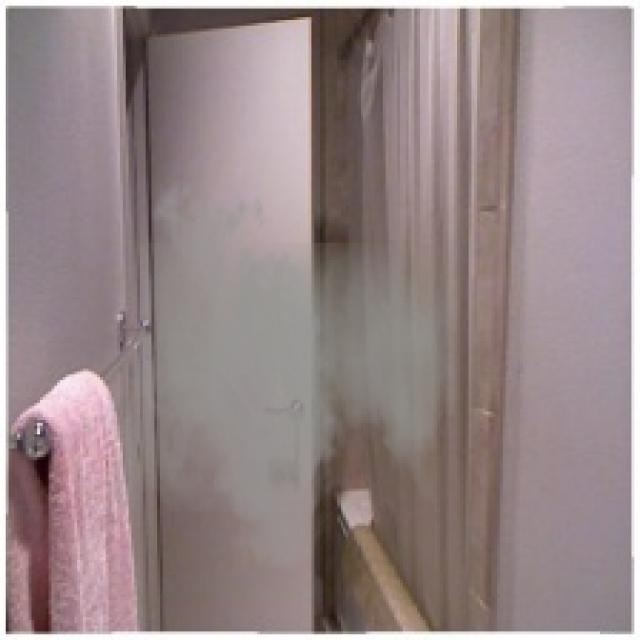smoke: (106, 168, 460, 586)
